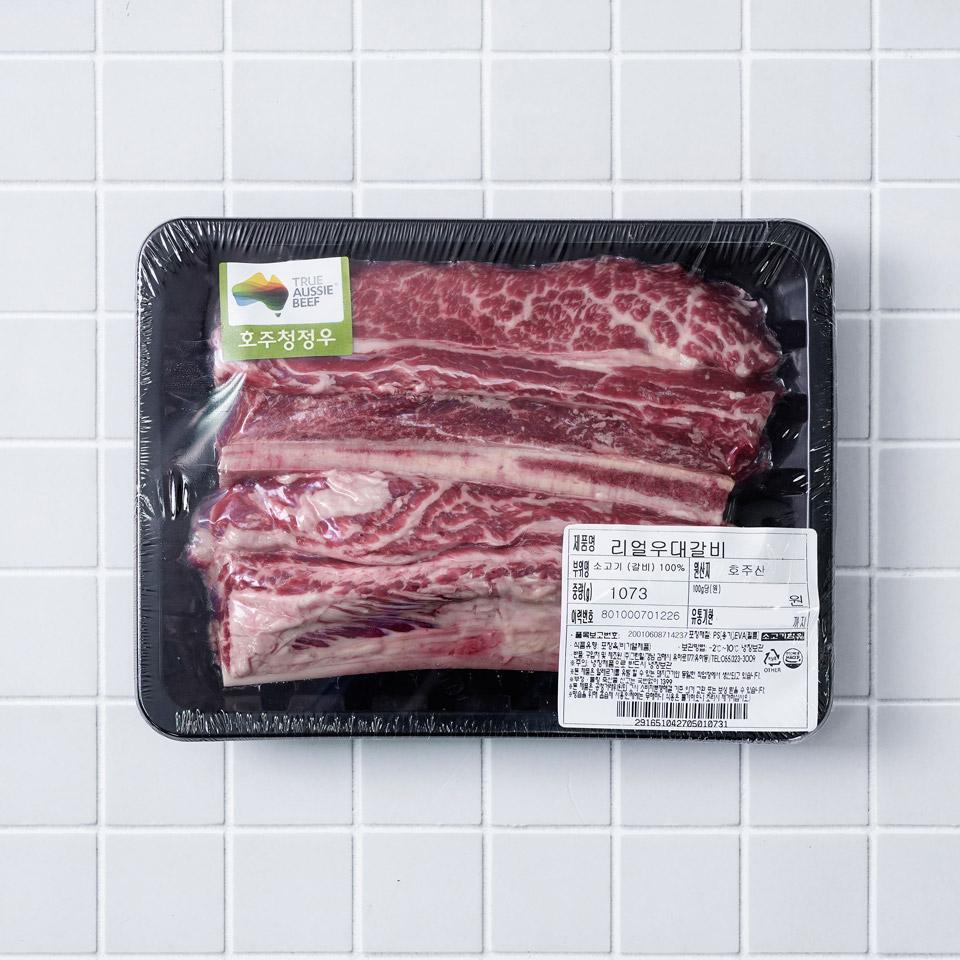beef: (346, 575, 837, 960)
